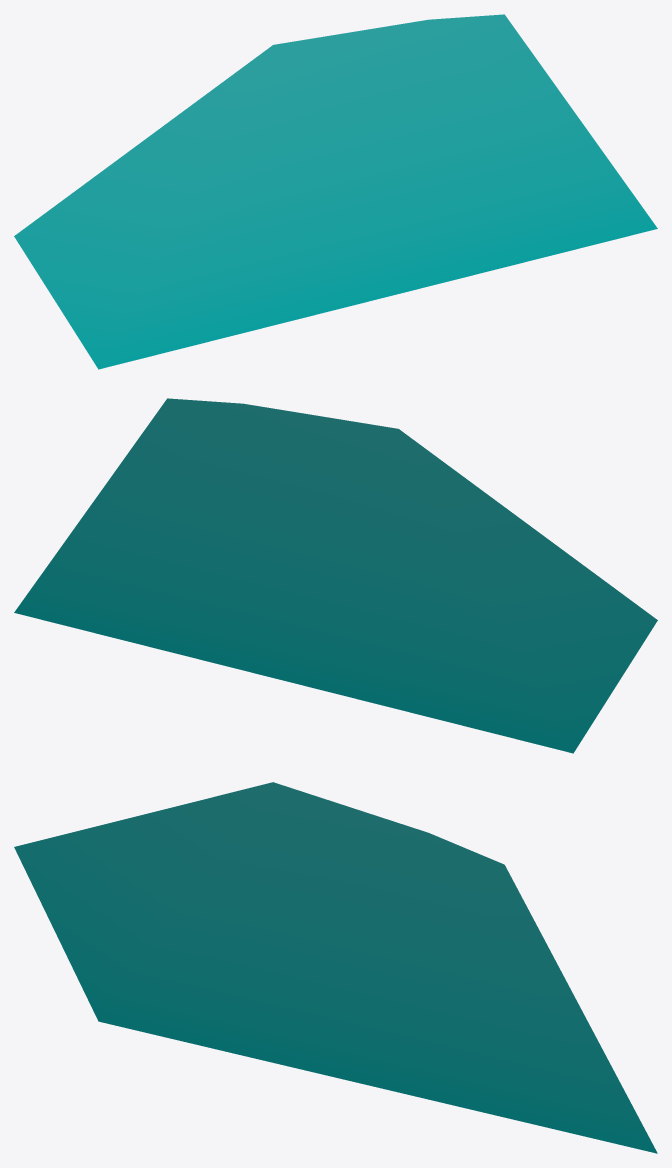
The model's file is Wild_Grass_vlkhcbxia_Low_vlkhcbxia_VarE_LOD2.fbx.
The picture shows the model from 3 angles, top to bottom: view 1: azimuth 30°, elevation 25°; view 2: azimuth 150°, elevation 25°; view 3: azimuth 330°, elevation 25°; orthographic projection.
Parts seen in each view (by area): view 1: _ihh8_VarE_LOD4; view 2: _ihh8_VarE_LOD4; view 3: _ihh8_VarE_LOD4.
Boxes of the visible parts, bbox=[...] form: _ihh8_VarE_LOD4: bbox=[14, 14, 657, 369]; _ihh8_VarE_LOD4: bbox=[14, 398, 657, 753]; _ihh8_VarE_LOD4: bbox=[14, 782, 657, 1153].
Bounding box in the file's own units: 40.57 × 16.98 × 0.
